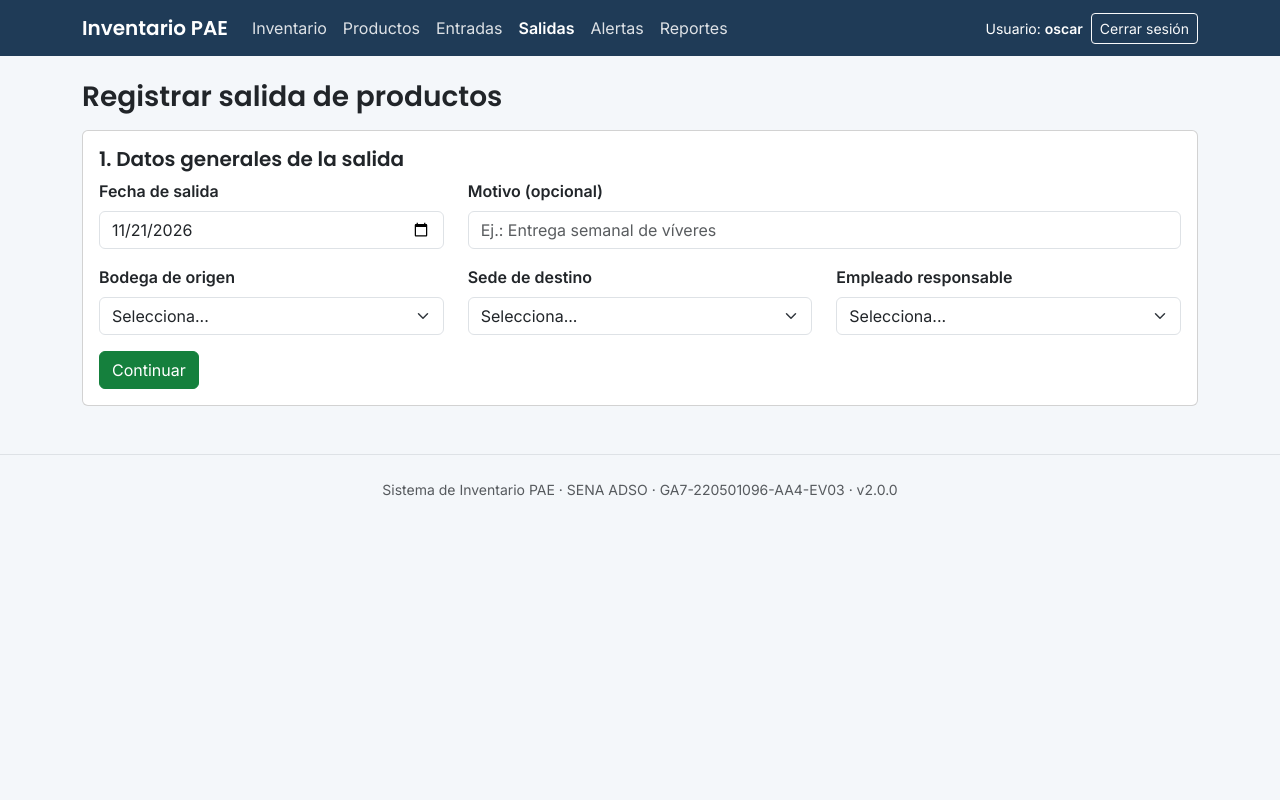
it: Sistema de Inventario PAE (front-end) › HU-04: muestra «Stock insuficiente» (409) y conserva la lista de productos
This screenshot has width=1280, height=800.
Select "Bodega Central Montería" in the dropdown labelled "Bodega de origen" at point(271, 316), box x1=99 y1=297 x2=444 y2=335
Select "IE San José" in the dropdown labelled "Sede de destino" at point(640, 316), box x1=468 y1=297 x2=812 y2=335
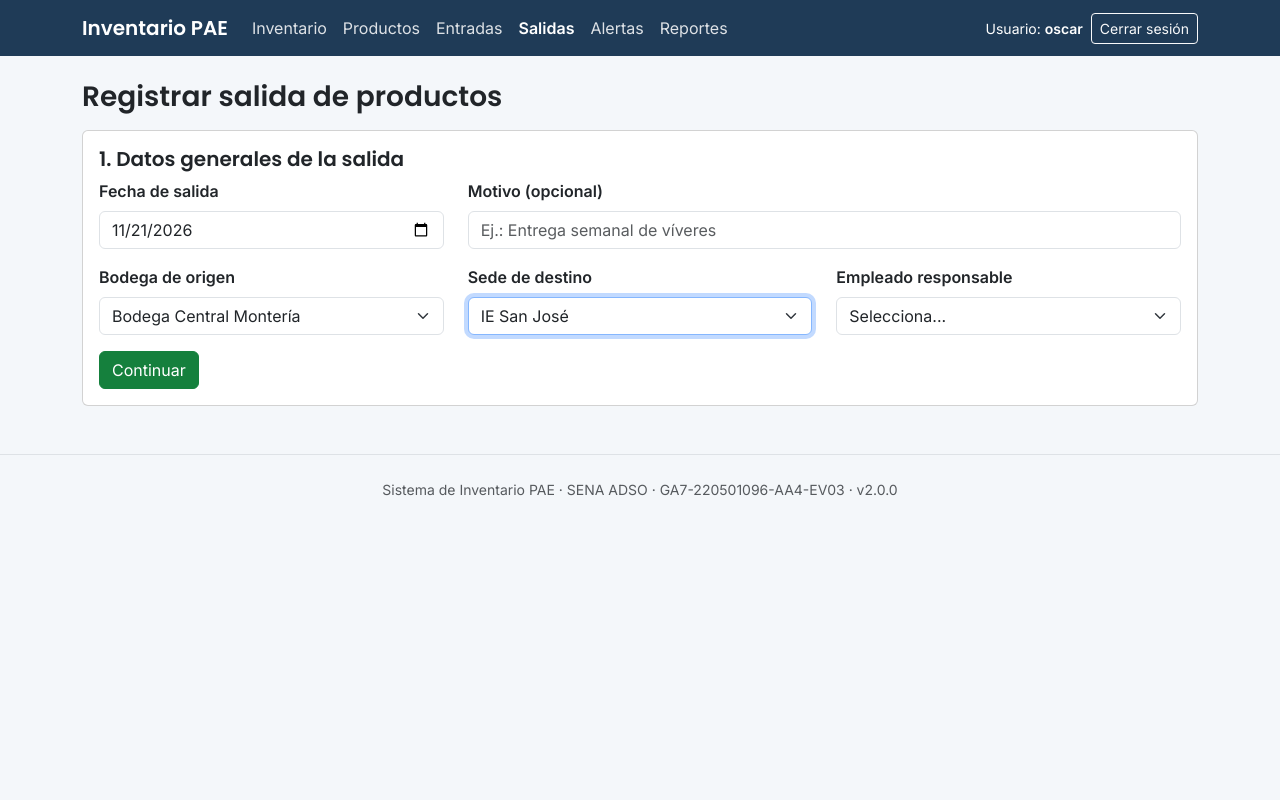
Select "Laura Martínez (Bodeguera)" in the dropdown labelled "Empleado responsable" at point(1009, 316), box x1=836 y1=297 x2=1181 y2=335
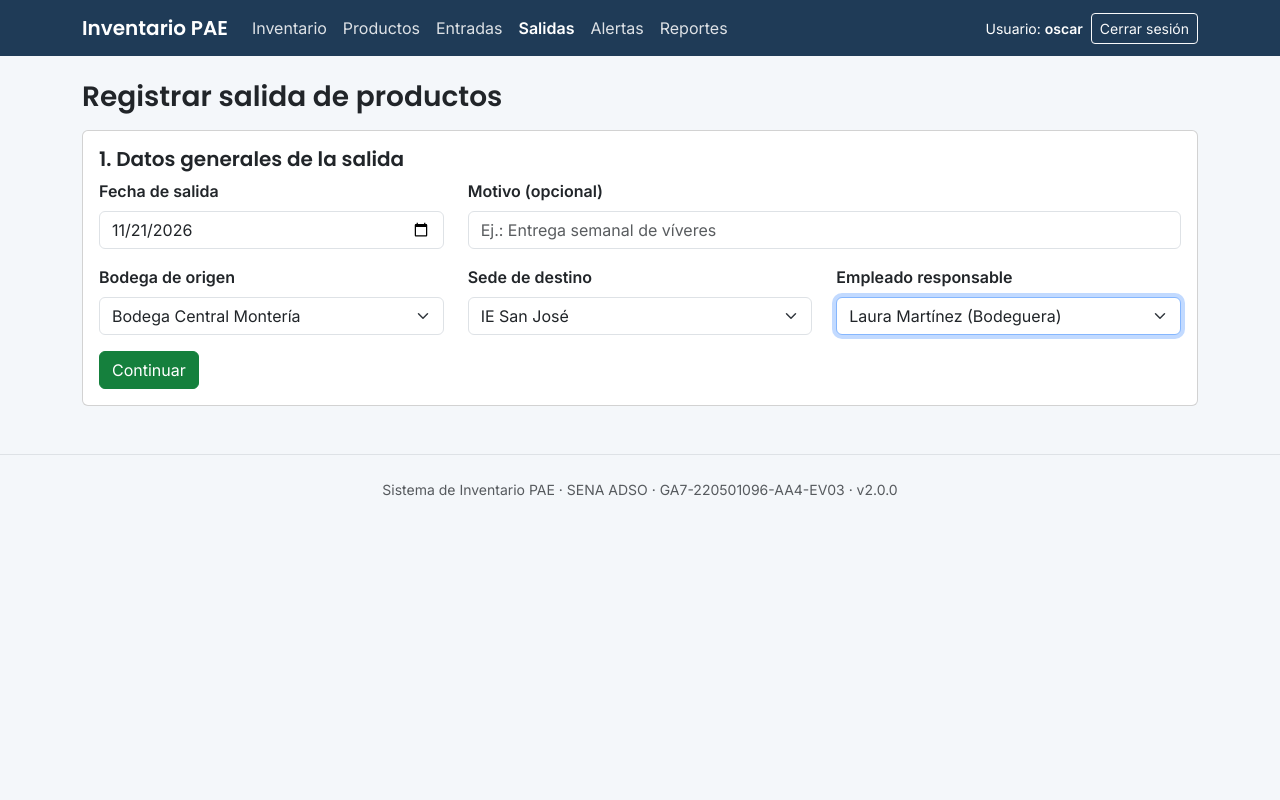
Click the button "Continuar" at point(149, 370), box x1=99 y1=351 x2=199 y2=389
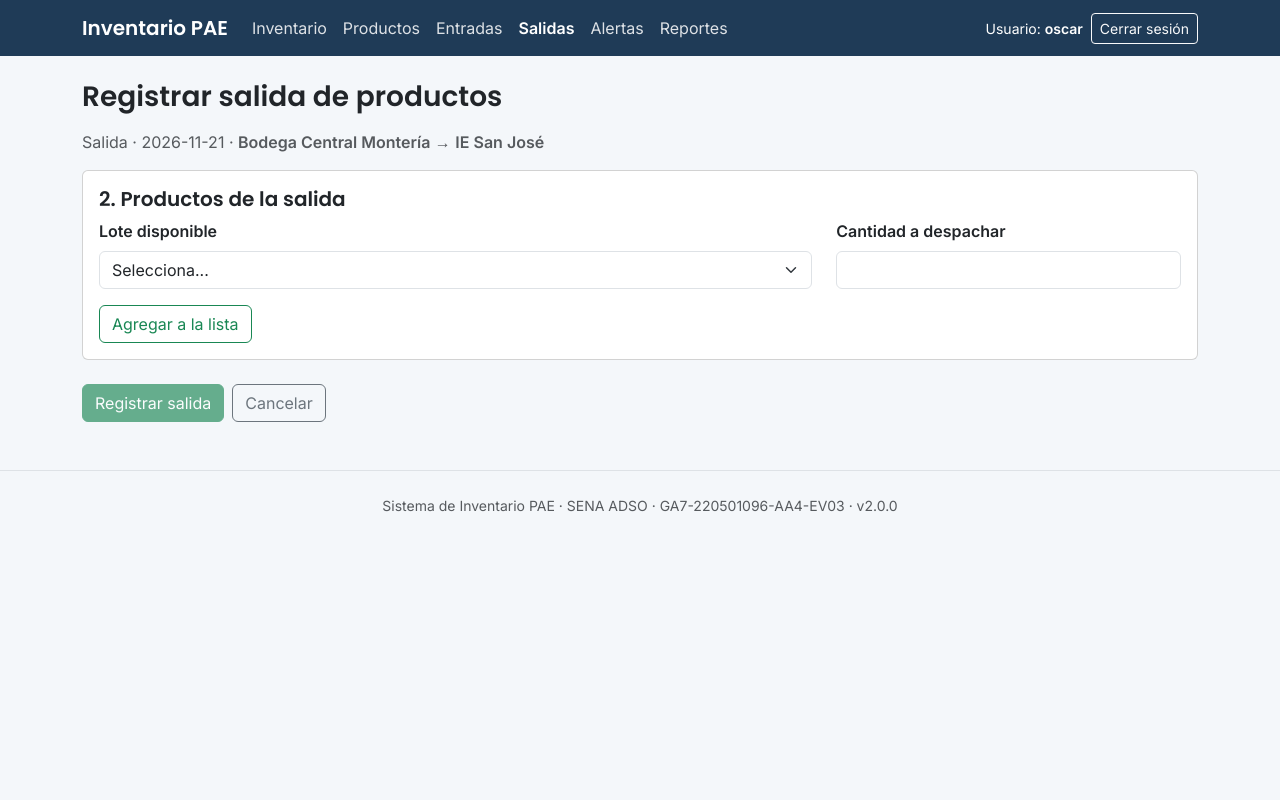
Check: the heading "2. Productos de la salida" is shown, box x1=99 y1=185 x2=346 y2=213
Select "Arroz · Lote #1 · vence 2027-01-01 · disponible 50" in the dropdown labelled "Lote disponible" at point(456, 270), box x1=99 y1=251 x2=812 y2=289
Type "999" into the number field labelled "Cantidad a despachar" at point(1009, 270), box x1=836 y1=251 x2=1181 y2=289
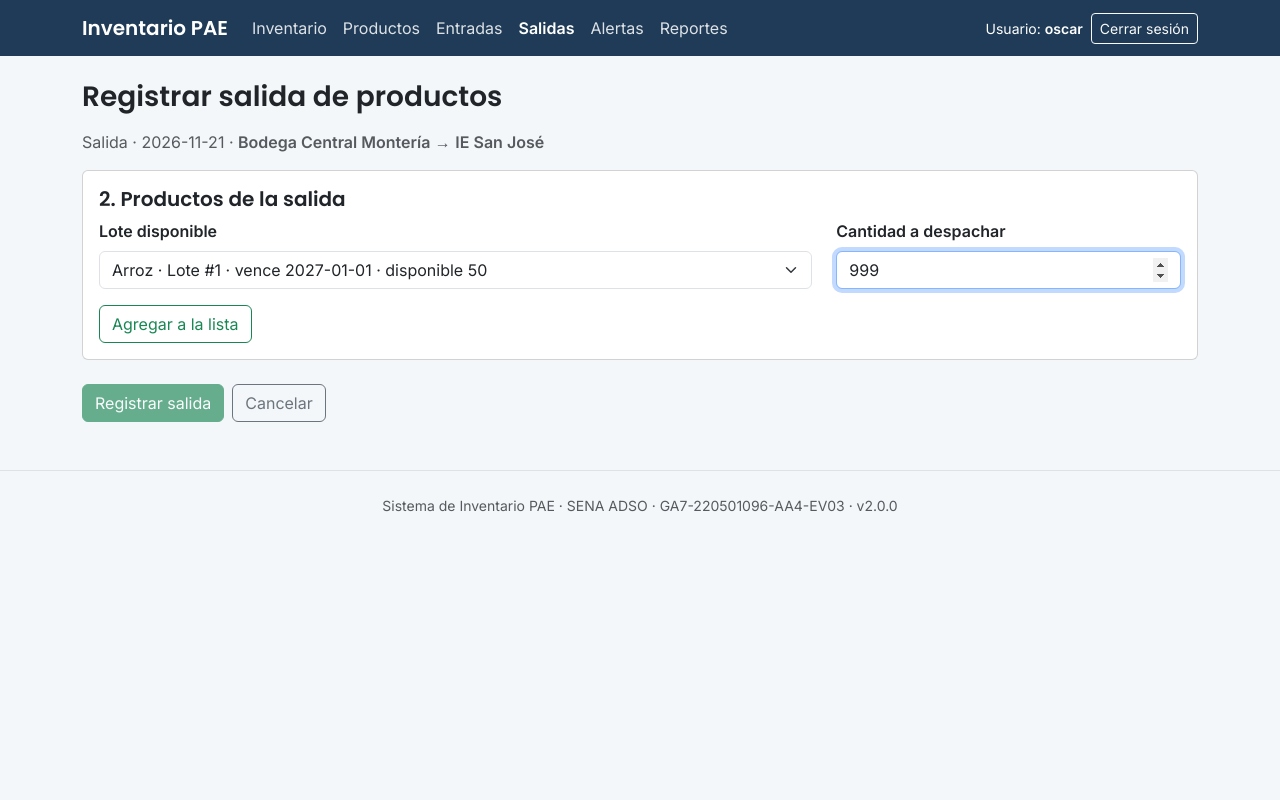
Click the button "Agregar a la lista" at point(175, 324), box x1=99 y1=305 x2=252 y2=343
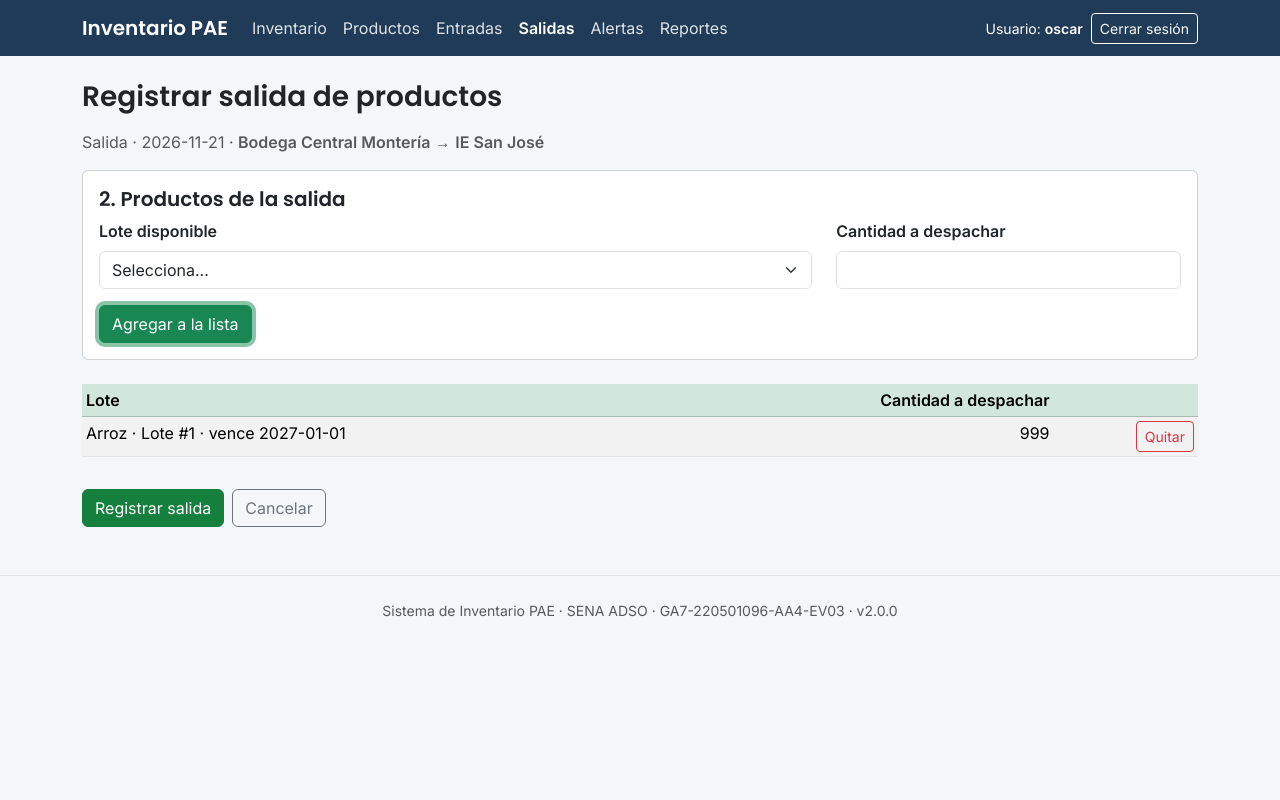
Click the button "Registrar salida" at point(153, 508), box x1=82 y1=489 x2=224 y2=527
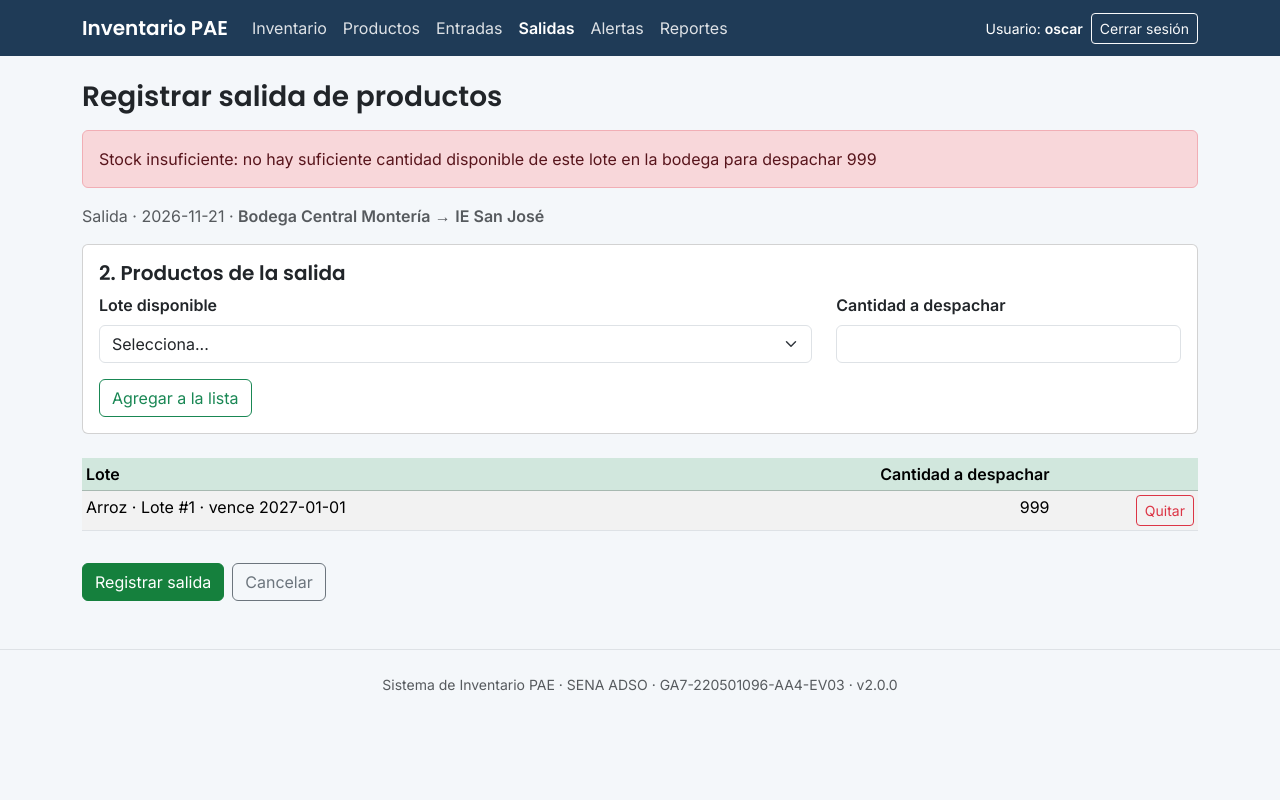
Check: the button "Quitar" is shown, box x1=1136 y1=495 x2=1194 y2=526
Check: the text "Stock insuficiente" is shown, box x1=99 y1=149 x2=877 y2=169
